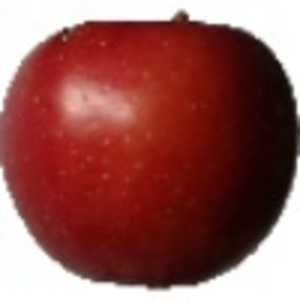maçã braeburn: (1, 9, 299, 291)
